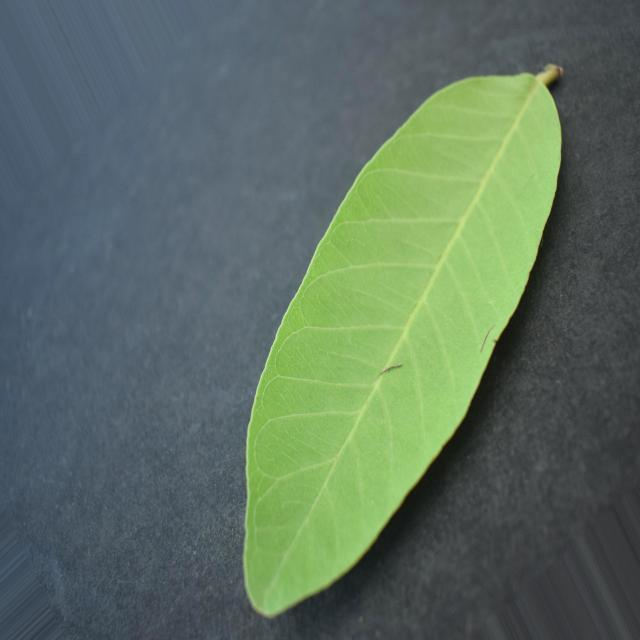Healthy: (244, 66, 561, 617)
